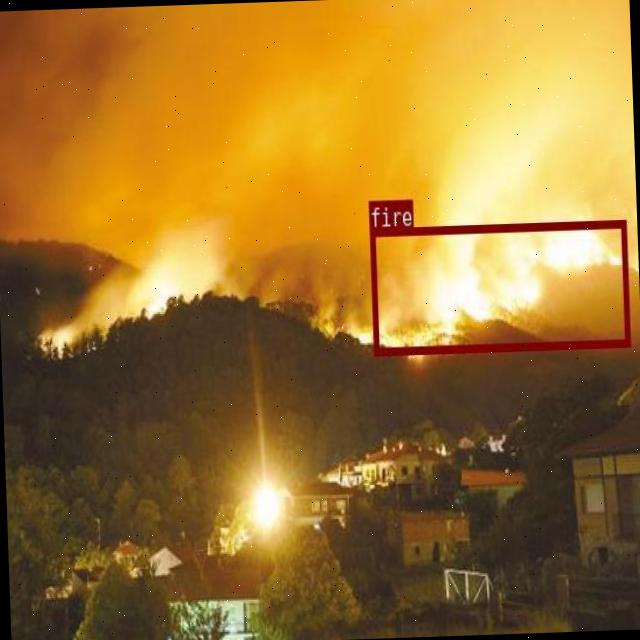fire: (369, 218, 629, 353)
